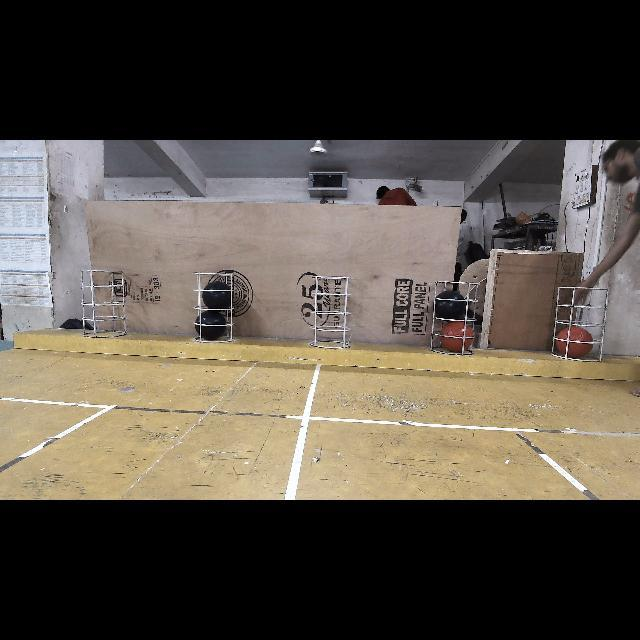P: (434, 290, 466, 320), (196, 310, 224, 340), (202, 284, 234, 310)
R: (556, 326, 594, 358), (440, 321, 476, 352)
S: (550, 284, 610, 362), (432, 280, 482, 358), (80, 267, 134, 339), (193, 270, 239, 346), (312, 274, 352, 352)
